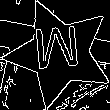M_S: (33, 26, 85, 81)
